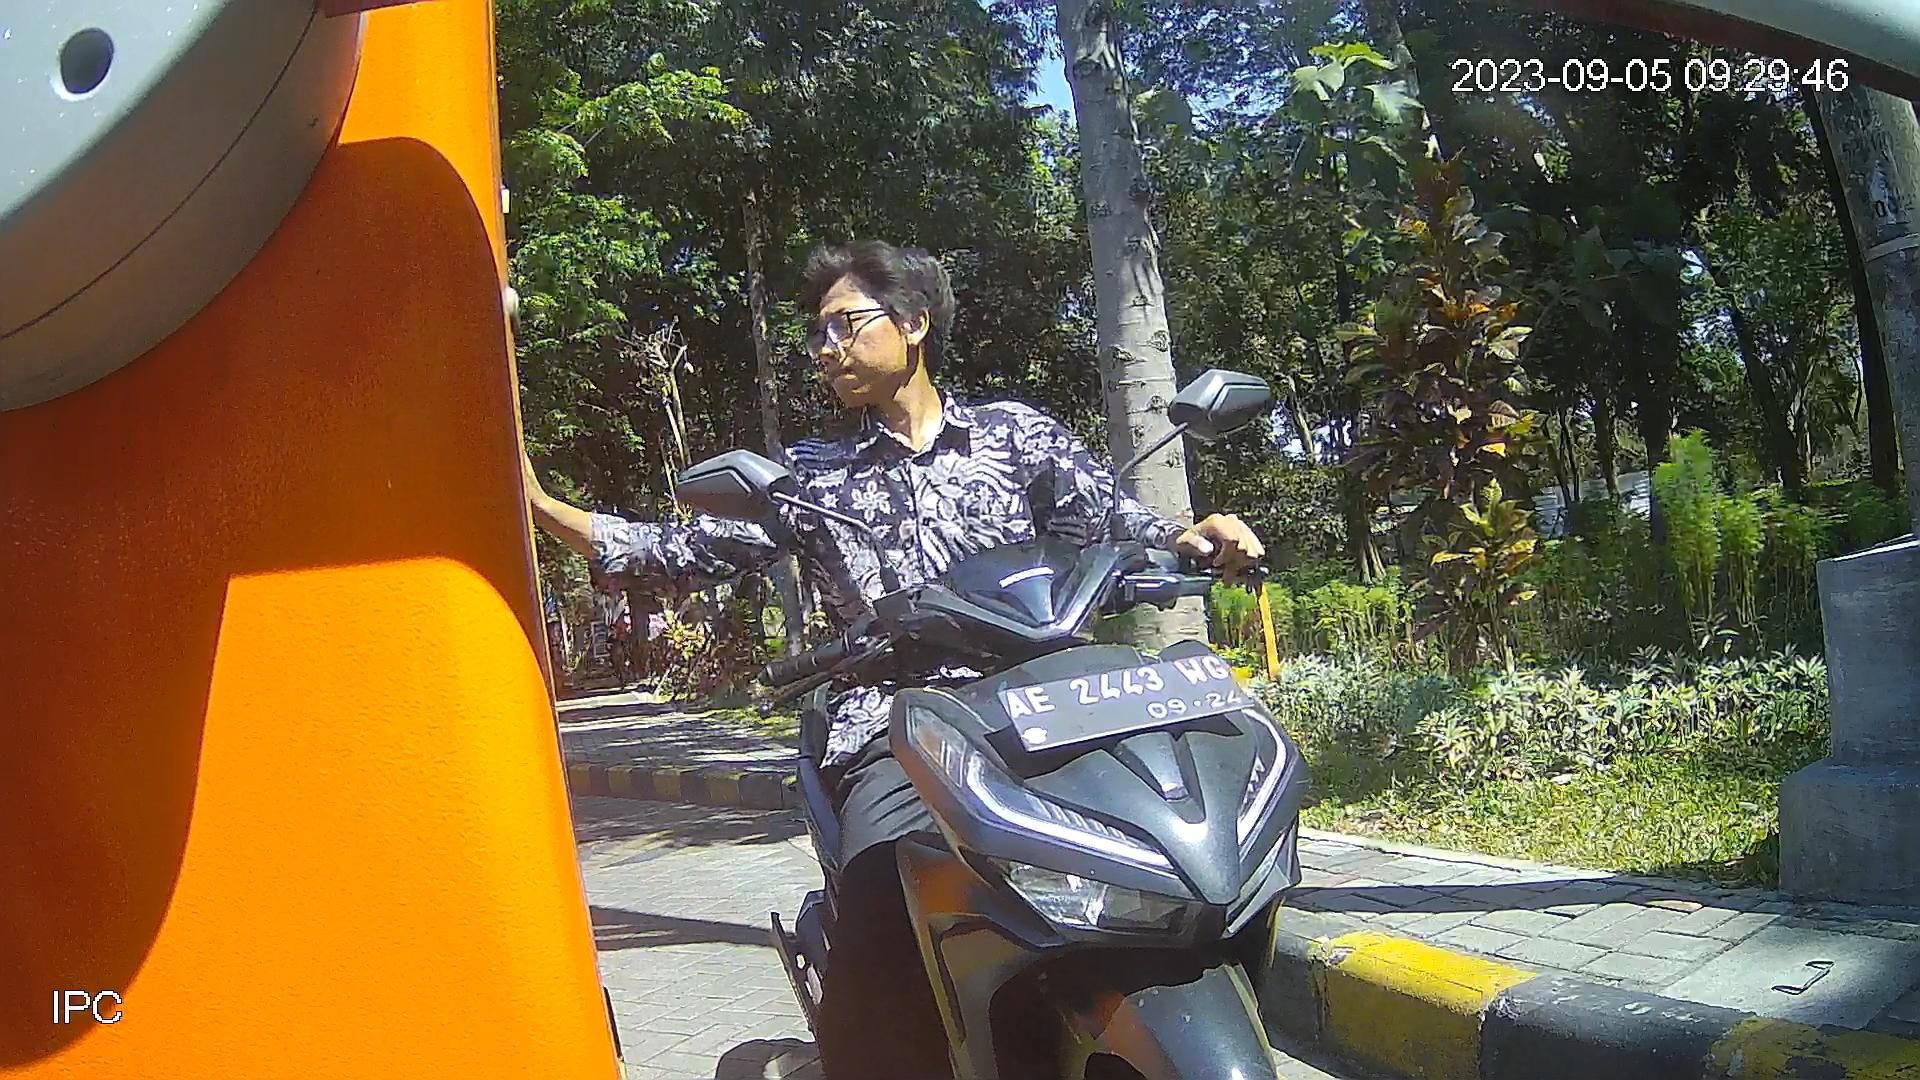plat: (993, 650, 1259, 756)
